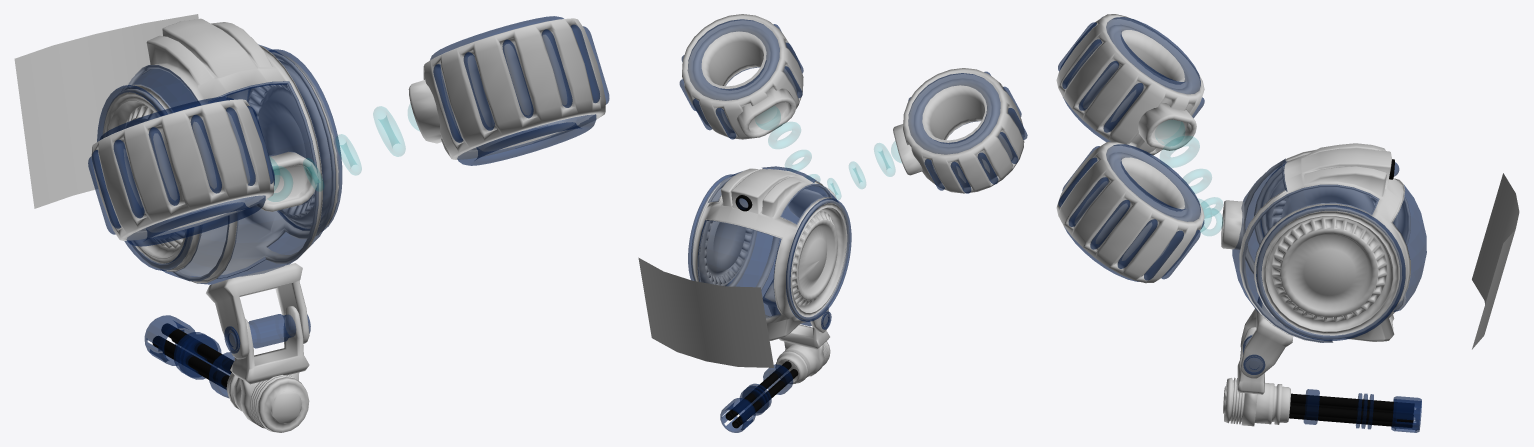
The model's file is tronDroneTwo.obj.
The picture shows the model from 3 angles, left to right: view 1: azimuth 30°, elevation 25°; view 2: azimuth 150°, elevation 25°; view 3: azimuth 270°, elevation 25°; orthographic projection. The views are drawn at different scales.
Visible parts, largest first — view 1: Sphere001_Default_Material_0, Capsule015_01_-_Default_0, Plane001_05_-_Default_0, Object001_01_-_Default_0, Object002_01_-_Default_0, Object_01_-_Default_0, Cylinder002_02_-_Default_0, Torus004_04_-_Default_0, Cylinder004_02_-_Default_0, Torus003_04_-_Default_0; view 2: Sphere001_Default_Material_0, Plane001_05_-_Default_0, Capsule015_01_-_Default_0, Object001_01_-_Default_0, Object002_01_-_Default_0, Object_01_-_Default_0, Cylinder002_02_-_Default_0, Cylinder004_02_-_Default_0, Torus004_04_-_Default_0, Torus007_04_-_Default_0; view 3: Sphere001_Default_Material_0, Capsule015_01_-_Default_0, Object001_01_-_Default_0, Plane001_05_-_Default_0, Object_01_-_Default_0, Object002_01_-_Default_0, Cylinder001_02_-_Default_0, Cylinder004_02_-_Default_0, Torus007_04_-_Default_0, Cylinder003_02_-_Default_0.
Boxes of the visible parts, <box> form: Sphere001_Default_Material_0: <box>91,18,605,432</box>; Capsule015_01_-_Default_0: <box>88,16,609,246</box>; Plane001_05_-_Default_0: <box>14,14,198,208</box>; Object001_01_-_Default_0: <box>128,44,335,284</box>; Object002_01_-_Default_0: <box>144,81,310,397</box>; Object_01_-_Default_0: <box>97,49,342,270</box>; Cylinder002_02_-_Default_0: <box>152,336,229,387</box>; Torus004_04_-_Default_0: <box>373,106,405,156</box>; Cylinder004_02_-_Default_0: <box>161,323,233,372</box>; Torus003_04_-_Default_0: <box>336,134,361,174</box>; Sphere001_Default_Material_0: <box>682,14,1024,384</box>; Plane001_05_-_Default_0: <box>638,257,773,367</box>; Capsule015_01_-_Default_0: <box>679,19,1027,193</box>; Object001_01_-_Default_0: <box>697,167,837,318</box>; Object002_01_-_Default_0: <box>720,166,831,432</box>; Object_01_-_Default_0: <box>688,174,851,321</box>; Cylinder002_02_-_Default_0: <box>738,369,798,423</box>; Cylinder004_02_-_Default_0: <box>731,361,791,415</box>; Torus004_04_-_Default_0: <box>768,122,800,148</box>; Torus007_04_-_Default_0: <box>874,143,894,176</box>; Sphere001_Default_Material_0: <box>1056,14,1410,426</box>; Capsule015_01_-_Default_0: <box>1058,17,1204,281</box>; Object001_01_-_Default_0: <box>1232,159,1426,342</box>; Plane001_05_-_Default_0: <box>1472,173,1519,349</box>; Object_01_-_Default_0: <box>1256,164,1405,340</box>; Object002_01_-_Default_0: <box>1243,159,1421,432</box>; Cylinder001_02_-_Default_0: <box>1289,405,1413,423</box>; Cylinder004_02_-_Default_0: <box>1290,393,1414,412</box>; Torus007_04_-_Default_0: <box>1160,136,1199,167</box>; Cylinder003_02_-_Default_0: <box>1289,414,1412,427</box>.
Size of the model in its own units: 6.01 by 5.18 by 6.3.
